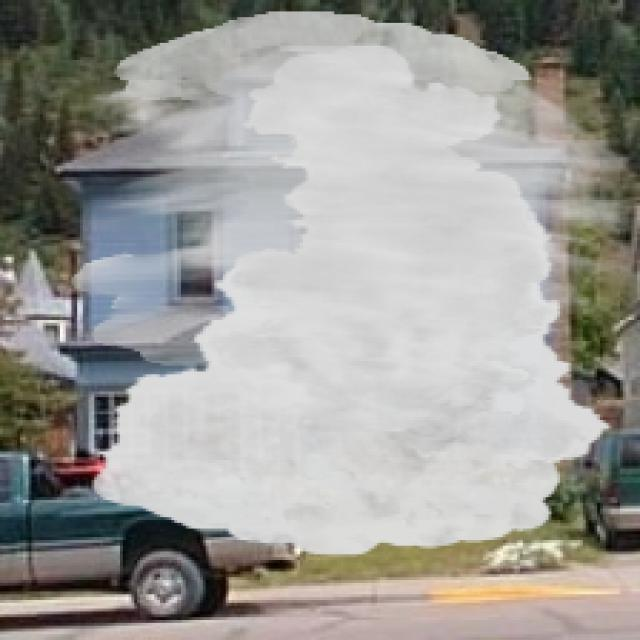Smoke: (71, 11, 634, 558)
